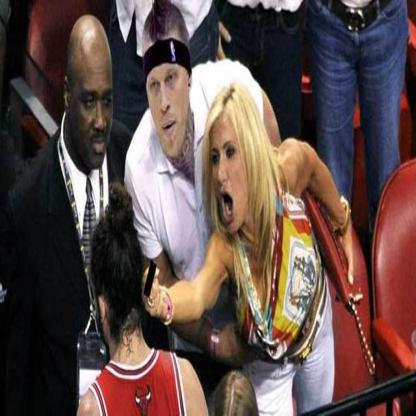face: (148, 40, 191, 159), (73, 55, 116, 172), (212, 119, 252, 236)
